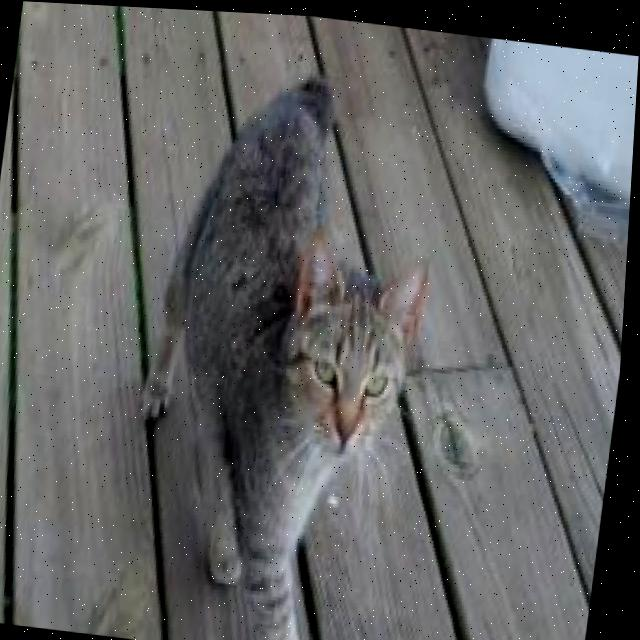American Bobtail: (111, 49, 457, 640)
